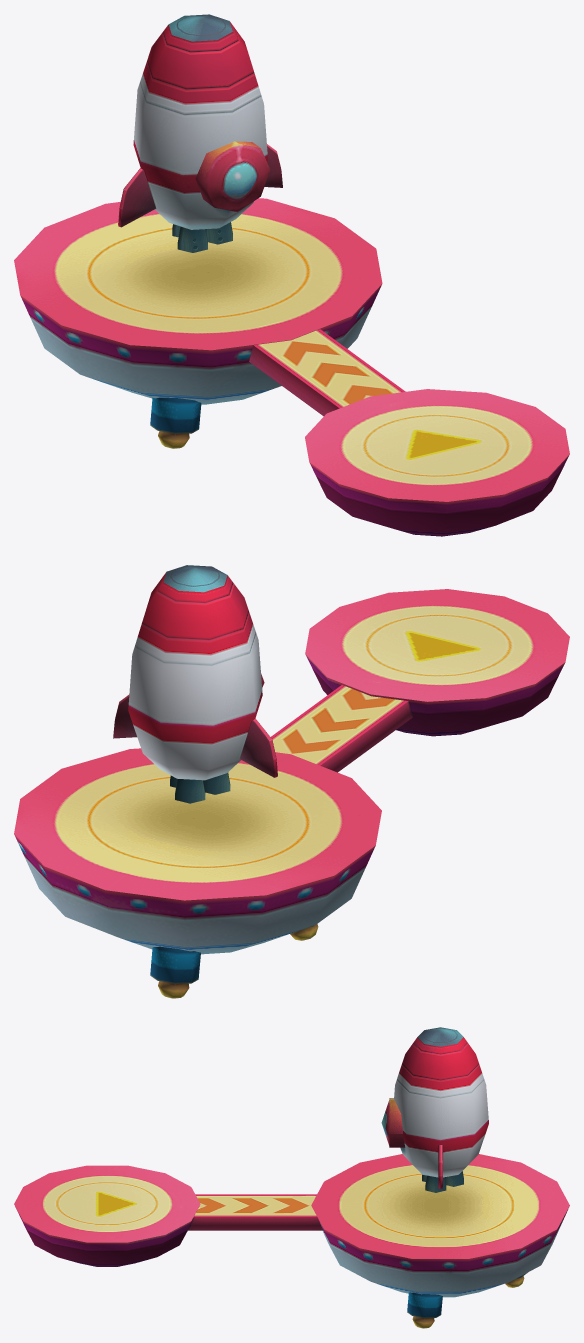
File: cj_jianzhu16.fbx
3 views of the same model, one above another, from view 1: azimuth 30°, elevation 25°; view 2: azimuth 150°, elevation 25°; view 3: azimuth 270°, elevation 25° (orthographic). The views are drawn at different scales.
Parts seen in each view (by area): view 1: kongdao4, kongdao5, huojian1, qiao, b; view 2: kongdao4, kongdao5, huojian1, qiao, a; view 3: kongdao4, kongdao5, huojian1, qiao, c.
Part boxes in pixels (<box>): kongdao4: <box>14,198,382,404</box>; kongdao5: <box>305,389,569,536</box>; huojian1: <box>118,14,282,252</box>; qiao: <box>249,329,405,416</box>; b: <box>150,397,201,448</box>; kongdao4: <box>14,748,381,954</box>; kongdao5: <box>305,589,569,736</box>; huojian1: <box>113,565,277,803</box>; qiao: <box>271,685,412,772</box>; a: <box>150,946,200,998</box>; kongdao4: <box>311,1154,569,1297</box>; kongdao5: <box>14,1165,200,1266</box>; huojian1: <box>381,1027,488,1192</box>; qiao: <box>187,1194,323,1230</box>; c: <box>407,1292,442,1328</box>.
Size of the model in its own units: 7327 by 8549 by 16109.
